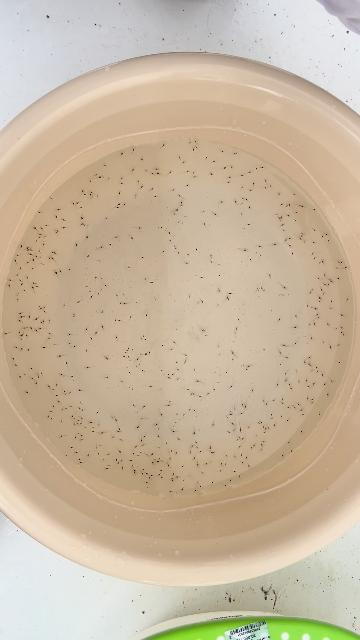benur: (239, 425, 243, 433), (212, 212, 218, 217), (174, 208, 181, 212), (51, 255, 56, 260), (247, 171, 253, 175), (61, 218, 67, 222), (107, 243, 113, 247), (298, 204, 304, 208), (57, 355, 64, 358), (140, 184, 144, 189), (180, 201, 184, 206), (157, 433, 161, 438), (85, 236, 89, 241), (230, 385, 234, 390), (96, 411, 100, 416), (310, 337, 314, 342), (200, 299, 204, 304), (330, 280, 335, 284), (288, 244, 293, 248), (210, 172, 214, 177), (119, 449, 122, 455), (73, 312, 76, 318), (32, 282, 38, 285), (133, 168, 136, 174), (173, 242, 176, 248), (131, 236, 134, 242), (75, 452, 81, 455), (118, 190, 121, 196), (98, 175, 104, 178), (165, 440, 168, 446), (144, 170, 148, 174), (72, 203, 76, 207), (155, 423, 159, 427), (323, 283, 327, 287), (34, 225, 38, 229), (76, 202, 80, 206), (247, 464, 251, 468), (151, 173, 155, 177), (85, 327, 89, 331), (62, 304, 66, 308), (240, 185, 244, 189), (195, 146, 199, 150), (221, 150, 225, 154), (161, 144, 165, 148), (330, 345, 333, 350), (15, 258, 18, 263), (33, 257, 36, 262), (284, 379, 287, 384), (95, 330, 98, 335), (104, 164, 107, 169), (30, 326, 33, 331), (90, 336, 93, 341), (274, 423, 277, 428), (137, 425, 140, 430), (19, 243, 22, 248), (126, 347, 129, 352), (255, 166, 258, 171), (183, 354, 188, 357), (105, 216, 108, 221), (117, 202, 122, 205), (28, 315, 31, 320), (198, 395, 203, 398), (132, 387, 135, 392), (78, 458, 83, 461), (229, 411, 234, 414), (59, 434, 64, 437), (133, 451, 136, 456), (116, 206, 121, 209), (121, 175, 124, 180), (95, 275, 98, 280), (227, 431, 232, 434), (227, 292, 232, 295), (330, 298, 333, 303), (283, 287, 288, 290), (244, 249, 249, 252), (248, 205, 251, 210), (234, 199, 237, 204), (226, 181, 231, 184), (264, 179, 267, 184), (277, 192, 280, 197), (140, 157, 143, 162), (218, 287, 220, 294), (101, 324, 104, 328), (12, 356, 14, 362), (41, 226, 44, 230), (262, 425, 265, 429), (15, 346, 19, 349), (248, 425, 251, 429), (297, 402, 301, 405), (154, 194, 158, 197), (245, 199, 248, 203), (214, 387, 216, 393), (140, 418, 144, 421), (280, 204, 284, 207), (139, 452, 143, 455), (140, 353, 143, 357), (68, 268, 70, 274), (265, 401, 268, 405), (50, 411, 54, 414), (323, 274, 326, 278), (185, 171, 189, 174), (120, 438, 124, 441), (176, 360, 179, 364), (122, 355, 126, 358), (280, 216, 283, 220), (311, 400, 314, 404), (217, 470, 221, 473), (56, 394, 60, 397), (238, 473, 241, 477), (199, 451, 203, 454), (318, 261, 321, 265), (294, 218, 297, 222), (193, 456, 196, 460), (145, 481, 149, 484), (87, 453, 90, 457), (118, 428, 122, 431), (143, 434, 146, 438), (74, 435, 77, 439), (42, 346, 46, 349), (20, 347, 23, 351), (19, 316, 23, 319), (34, 318, 38, 321), (55, 215, 58, 219), (83, 193, 87, 196), (137, 179, 140, 183), (151, 187, 155, 190), (178, 220, 181, 224), (168, 231, 171, 235), (139, 227, 143, 230), (177, 251, 180, 255), (186, 253, 190, 256), (185, 262, 189, 265), (195, 247, 198, 251), (210, 260, 213, 264), (140, 256, 144, 259), (115, 235, 119, 238), (87, 254, 90, 258), (86, 366, 90, 369), (105, 357, 109, 360), (128, 371, 132, 374), (141, 369, 145, 372), (178, 438, 182, 441), (211, 424, 214, 428), (241, 437, 245, 440), (323, 382, 326, 386), (312, 382, 315, 386), (306, 385, 310, 388), (307, 356, 311, 359), (279, 351, 282, 355), (168, 400, 172, 403), (192, 392, 195, 396), (145, 352, 148, 356), (140, 336, 143, 340), (73, 345, 77, 348), (89, 295, 92, 299), (150, 281, 154, 284), (251, 389, 254, 393), (276, 384, 279, 388), (248, 365, 252, 368), (232, 351, 235, 355), (327, 323, 330, 327), (340, 314, 344, 317), (313, 323, 316, 327), (346, 297, 349, 301), (320, 288, 323, 292), (344, 266, 348, 269), (284, 238, 287, 242), (325, 233, 329, 236), (312, 241, 316, 244), (240, 213, 243, 217), (220, 201, 224, 204), (248, 189, 252, 192), (264, 187, 268, 190), (269, 184, 272, 188), (285, 204, 288, 208), (292, 193, 296, 196), (228, 176, 232, 179), (231, 165, 234, 169), (223, 166, 227, 169), (120, 153, 124, 156), (122, 465, 124, 470), (282, 451, 284, 456), (176, 451, 178, 456), (116, 430, 121, 432), (173, 213, 178, 215), (210, 254, 212, 259), (327, 392, 329, 397), (166, 404, 171, 406), (253, 181, 255, 186), (120, 182, 123, 185), (35, 329, 38, 332), (136, 412, 139, 415), (201, 471, 204, 474), (123, 204, 126, 207), (241, 461, 244, 464), (229, 479, 232, 482), (181, 487, 184, 490), (220, 462, 223, 465), (224, 463, 227, 466), (181, 465, 184, 468), (161, 476, 164, 479), (145, 472, 148, 475), (133, 469, 136, 472), (117, 462, 120, 465), (99, 444, 102, 447), (80, 461, 83, 464), (101, 432, 104, 435), (115, 419, 118, 422), (90, 421, 93, 424), (84, 426, 87, 429), (142, 405, 145, 408), (57, 400, 60, 403), (63, 390, 66, 393), (26, 391, 29, 394), (31, 377, 34, 380), (60, 373, 63, 376), (30, 367, 33, 370), (65, 362, 68, 365), (27, 348, 30, 351), (39, 327, 42, 330), (18, 312, 21, 315), (43, 310, 46, 313), (16, 294, 19, 297), (31, 267, 34, 270), (27, 248, 30, 251), (81, 190, 84, 193), (90, 191, 93, 194), (107, 178, 110, 181), (178, 194, 181, 197), (169, 171, 172, 174), (203, 223, 206, 226), (169, 239, 172, 242), (218, 263, 221, 266), (101, 245, 104, 248), (136, 365, 139, 368), (160, 413, 163, 416), (210, 451, 213, 454), (194, 440, 197, 443), (290, 449, 293, 452), (233, 428, 236, 431), (280, 415, 283, 418), (286, 419, 289, 422), (300, 430, 303, 433), (318, 413, 321, 416), (301, 413, 304, 416), (311, 398, 314, 401), (316, 370, 319, 373), (284, 372, 287, 375), (294, 342, 297, 345), (263, 348, 266, 351), (322, 341, 325, 344), (338, 361, 341, 364), (187, 388, 190, 391), (193, 368, 196, 371), (161, 344, 164, 347), (173, 341, 176, 344), (144, 338, 147, 341), (129, 316, 132, 319), (145, 314, 148, 317), (119, 302, 122, 305), (123, 302, 126, 305), (85, 285, 88, 288), (144, 278, 147, 281), (226, 296, 229, 299), (340, 331, 343, 334), (294, 326, 297, 329), (315, 308, 318, 311), (311, 288, 314, 291), (318, 297, 321, 300), (323, 292, 326, 295), (317, 277, 320, 280), (340, 261, 343, 264), (311, 252, 314, 255), (262, 289, 265, 292), (258, 245, 261, 248), (274, 243, 277, 246), (288, 237, 291, 240), (321, 235, 324, 238), (313, 229, 316, 232), (300, 238, 303, 241), (287, 214, 290, 217), (313, 208, 316, 211), (241, 202, 244, 205), (241, 197, 244, 200), (241, 174, 244, 177), (261, 166, 264, 169), (193, 171, 196, 174), (194, 140, 197, 143), (188, 141, 191, 144), (132, 149, 135, 152), (154, 458, 156, 462), (190, 451, 192, 455), (289, 204, 291, 208), (168, 450, 170, 454), (280, 362, 282, 366), (245, 456, 247, 460), (102, 459, 106, 461), (70, 447, 74, 449), (69, 391, 71, 395), (41, 372, 43, 376), (22, 333, 24, 337), (49, 319, 51, 323), (8, 279, 12, 281), (41, 263, 45, 265), (83, 223, 85, 227), (135, 195, 137, 199), (172, 189, 176, 191), (156, 173, 160, 175), (155, 168, 159, 170), (200, 277, 204, 279), (128, 266, 132, 268), (97, 260, 101, 262), (105, 376, 109, 378), (157, 447, 161, 449), (171, 449, 173, 453), (209, 446, 211, 450), (189, 408, 191, 412), (305, 379, 307, 383), (304, 360, 306, 364), (284, 357, 288, 359), (282, 345, 286, 347), (336, 344, 340, 346), (184, 360, 186, 364), (149, 351, 151, 355), (116, 336, 118, 340), (118, 320, 122, 322), (114, 318, 116, 322), (69, 342, 71, 346), (98, 292, 100, 296), (116, 294, 118, 298), (340, 327, 344, 329), (295, 314, 297, 318), (336, 278, 340, 280), (250, 258, 252, 262), (259, 254, 261, 258), (247, 224, 251, 226), (193, 176, 197, 178), (186, 184, 190, 186), (212, 161, 216, 163), (179, 156, 181, 160), (193, 148, 195, 152), (190, 393, 192, 396), (316, 313, 319, 315), (91, 196, 93, 199), (330, 307, 333, 309), (298, 381, 300, 384), (241, 454, 243, 457), (234, 455, 236, 458), (212, 481, 214, 484), (200, 485, 202, 488), (196, 481, 199, 483), (195, 489, 198, 491), (176, 491, 178, 494), (169, 491, 172, 493), (182, 479, 185, 481), (176, 476, 179, 478), (171, 478, 174, 480), (171, 480, 174, 482), (205, 463, 208, 465), (158, 473, 161, 475), (148, 476, 150, 479), (168, 464, 170, 467), (169, 457, 171, 460), (157, 461, 160, 463), (152, 461, 154, 464), (134, 471, 136, 474), (151, 453, 153, 456), (121, 459, 123, 462), (116, 458, 118, 461), (107, 453, 110, 455), (97, 452, 99, 455), (96, 447, 98, 450), (112, 436, 115, 438), (141, 439, 143, 442), (142, 444, 145, 446), (80, 439, 83, 441), (81, 434, 83, 437), (77, 433, 80, 435), (92, 431, 95, 433), (80, 422, 82, 425), (80, 401, 82, 404), (133, 404, 135, 407), (70, 405, 72, 408), (65, 407, 67, 410), (47, 415, 49, 418), (53, 405, 55, 408), (78, 389, 81, 391), (56, 384, 58, 387), (48, 385, 50, 388), (35, 382, 37, 385), (37, 376, 39, 379), (70, 376, 73, 378), (24, 373, 26, 376), (19, 376, 22, 378), (15, 364, 17, 367), (26, 334, 28, 337), (48, 337, 50, 340), (20, 334, 22, 337), (18, 331, 20, 334), (18, 320, 21, 322), (49, 333, 52, 335), (36, 285, 38, 288), (8, 284, 10, 287), (16, 274, 19, 276), (27, 261, 29, 264), (29, 253, 32, 255), (35, 255, 37, 258), (39, 250, 41, 253), (30, 249, 33, 251), (26, 247, 29, 249), (48, 257, 51, 259), (54, 252, 57, 254), (43, 243, 45, 246), (35, 240, 37, 243), (44, 235, 46, 238), (45, 224, 47, 227), (76, 243, 78, 246), (39, 211, 42, 213), (57, 209, 60, 211), (80, 206, 83, 208), (80, 216, 82, 219), (81, 223, 83, 226), (90, 193, 92, 196), (89, 180, 91, 183), (95, 173, 97, 176), (184, 215, 187, 217), (202, 211, 205, 213), (161, 226, 163, 229), (157, 226, 159, 229), (162, 251, 165, 253), (194, 275, 197, 277), (121, 380, 123, 383), (139, 362, 141, 365), (136, 358, 139, 360), (129, 360, 132, 362), (127, 356, 130, 358), (149, 385, 152, 387), (158, 427, 160, 430), (196, 447, 199, 449), (191, 445, 194, 447), (193, 432, 195, 435), (175, 421, 177, 424), (183, 413, 185, 416), (196, 415, 198, 418), (239, 445, 241, 448), (238, 436, 240, 439), (236, 439, 239, 441), (255, 434, 257, 437), (265, 427, 267, 430), (261, 421, 263, 424), (231, 423, 234, 425), (240, 412, 243, 414), (300, 409, 303, 411), (294, 406, 296, 409), (292, 404, 294, 407), (287, 407, 290, 409), (281, 402, 284, 404), (272, 399, 275, 401), (307, 397, 309, 400), (330, 380, 333, 382), (290, 388, 293, 390), (289, 383, 291, 386), (322, 374, 324, 377), (316, 366, 318, 369), (311, 369, 313, 372), (308, 362, 310, 365), (306, 342, 309, 344), (175, 413, 178, 415), (194, 409, 196, 412), (176, 404, 178, 407), (168, 377, 171, 379), (171, 373, 174, 375), (177, 368, 179, 371), (101, 311, 103, 314), (136, 301, 138, 304), (86, 349, 88, 352), (68, 334, 71, 336), (77, 301, 80, 303), (123, 293, 125, 296), (154, 298, 156, 301), (237, 318, 239, 321), (217, 304, 219, 307), (234, 408, 236, 411), (245, 405, 247, 408), (232, 358, 234, 361), (217, 381, 220, 383), (342, 334, 345, 336), (334, 328, 337, 330), (278, 318, 280, 321), (309, 323, 311, 326), (317, 317, 320, 319), (272, 328, 274, 331), (319, 300, 321, 303), (328, 283, 330, 286), (336, 267, 339, 269), (322, 260, 324, 263), (313, 257, 316, 259), (282, 294, 285, 296), (256, 287, 258, 290), (261, 287, 263, 290), (269, 274, 271, 277), (300, 235, 303, 237), (301, 233, 304, 235), (296, 211, 298, 214), (206, 156, 208, 159), (183, 161, 186, 163), (235, 153, 238, 155), (177, 378, 179, 380), (55, 232, 57, 234), (225, 485, 227, 487), (172, 473, 174, 475), (197, 464, 199, 466), (151, 474, 153, 476), (147, 487, 149, 489), (160, 470, 162, 472), (162, 461, 164, 463), (159, 458, 161, 460), (142, 473, 144, 475), (142, 468, 144, 470), (137, 465, 139, 467), (146, 454, 148, 456), (130, 460, 132, 462), (108, 465, 110, 467), (106, 468, 108, 470), (137, 454, 139, 456), (135, 446, 137, 448), (98, 424, 100, 426), (111, 417, 113, 419), (92, 426, 94, 428), (65, 455, 67, 457), (77, 423, 79, 425), (74, 423, 76, 425), (81, 417, 83, 419), (78, 419, 80, 421), (79, 407, 81, 409), (82, 409, 84, 411), (73, 417, 75, 419), (72, 415, 74, 417), (51, 417, 53, 419), (64, 393, 66, 395), (52, 389, 54, 391), (5, 333, 7, 335), (23, 327, 25, 329), (43, 307, 45, 309), (40, 308, 42, 310), (17, 299, 19, 301), (17, 292, 19, 294), (24, 290, 26, 292), (32, 287, 34, 289), (21, 283, 23, 285), (20, 280, 22, 282), (17, 254, 19, 256), (39, 256, 41, 258), (52, 251, 54, 253), (55, 272, 57, 274), (59, 270, 61, 272), (39, 237, 41, 239), (63, 227, 65, 229), (57, 230, 59, 232), (82, 218, 84, 220), (87, 225, 89, 227), (51, 198, 53, 200), (174, 248, 176, 250), (159, 389, 161, 391), (173, 426, 175, 428), (253, 445, 255, 447), (261, 444, 263, 446), (263, 440, 265, 442), (268, 427, 270, 429), (258, 422, 260, 424), (288, 441, 290, 443), (226, 416, 228, 418), (229, 414, 233, 415), (271, 417, 273, 419), (270, 414, 272, 416), (281, 398, 283, 400), (263, 400, 265, 402), (295, 370, 297, 372), (310, 365, 312, 367), (207, 393, 209, 395), (197, 380, 199, 382), (168, 373, 170, 375), (161, 370, 163, 372), (170, 349, 172, 351), (90, 333, 92, 335), (89, 291, 91, 293), (105, 285, 107, 287), (203, 329, 205, 331), (205, 335, 207, 337), (246, 368, 248, 370), (214, 372, 216, 374), (219, 353, 221, 355), (217, 345, 219, 347), (307, 305, 309, 307), (309, 292, 311, 294), (329, 279, 331, 281), (321, 277, 323, 279), (338, 261, 340, 263), (292, 252, 293, 256), (258, 296, 260, 298), (258, 288, 260, 290), (328, 239, 329, 243), (283, 229, 285, 231), (282, 224, 284, 226), (278, 217, 280, 219), (276, 213, 278, 215), (233, 471, 236, 472), (54, 344, 57, 345), (41, 322, 42, 325), (27, 276, 28, 279), (20, 267, 21, 270), (39, 234, 42, 235), (219, 274, 220, 277), (226, 454, 227, 457), (251, 446, 252, 449), (261, 448, 262, 451), (263, 432, 266, 433), (143, 334, 144, 337), (189, 295, 190, 298), (228, 298, 229, 301), (226, 371, 227, 374), (132, 465, 133, 467), (61, 420, 62, 422), (62, 408, 63, 410), (21, 339, 23, 340), (43, 320, 44, 322), (39, 306, 41, 307), (97, 195, 98, 197), (223, 272, 224, 274), (173, 431, 175, 432), (259, 422, 260, 424), (298, 380, 299, 382), (73, 316, 74, 318), (236, 328, 237, 330), (202, 329, 203, 331), (242, 404, 243, 406), (243, 364, 244, 366), (304, 240, 306, 241), (304, 241, 305, 243), (233, 153, 235, 154)
